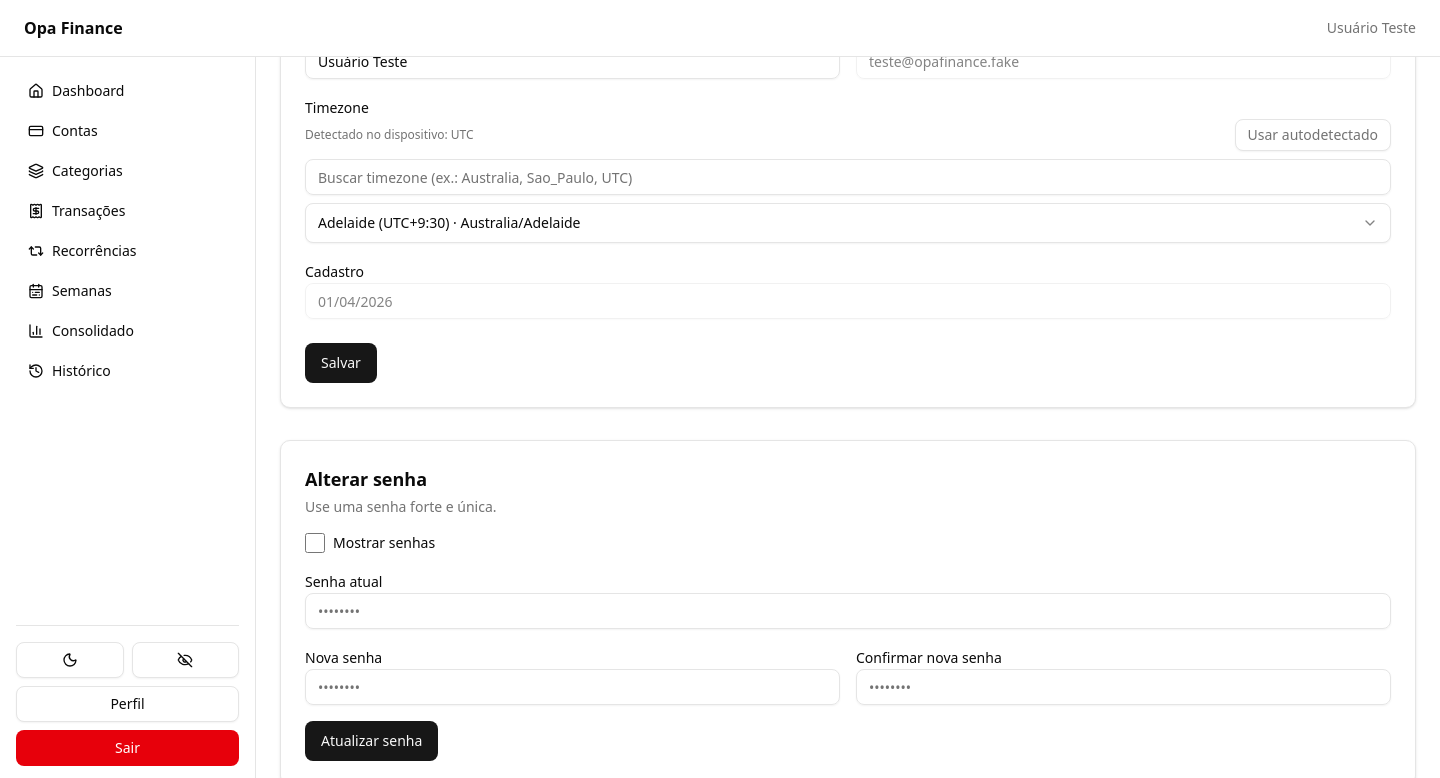
Test: profile feature › deve exibir erro amigável quando senha atual for inválida
The width and height of the screenshot is (1440, 778).
(page scrolled)
Type "SenhaErrada@123" into the password field labelled "Senha atual" at coordinates (848, 611), box [305,593,1391,629]
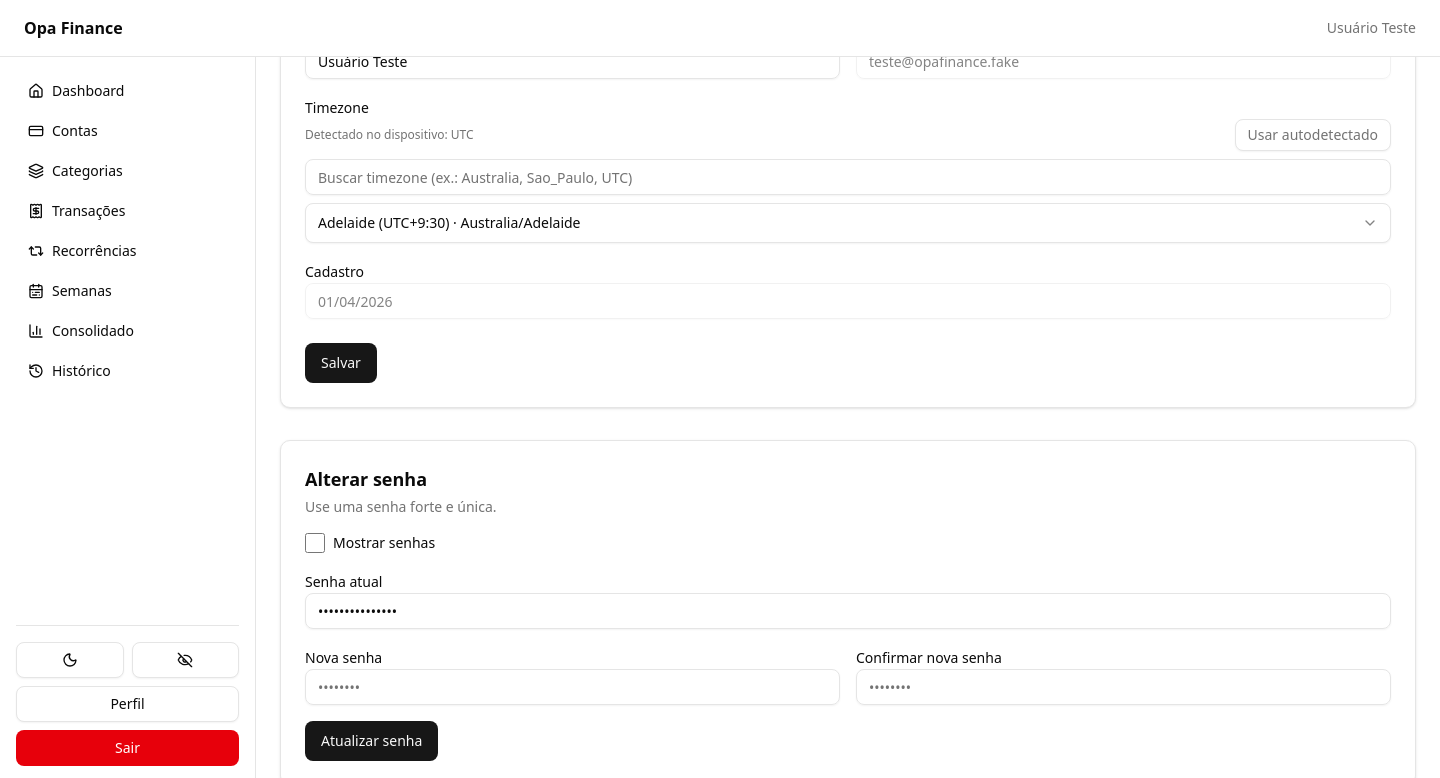
Type "NovaSenha@123" into the password field labelled "Nova senha" at coordinates (572, 687), box [305,669,840,705]
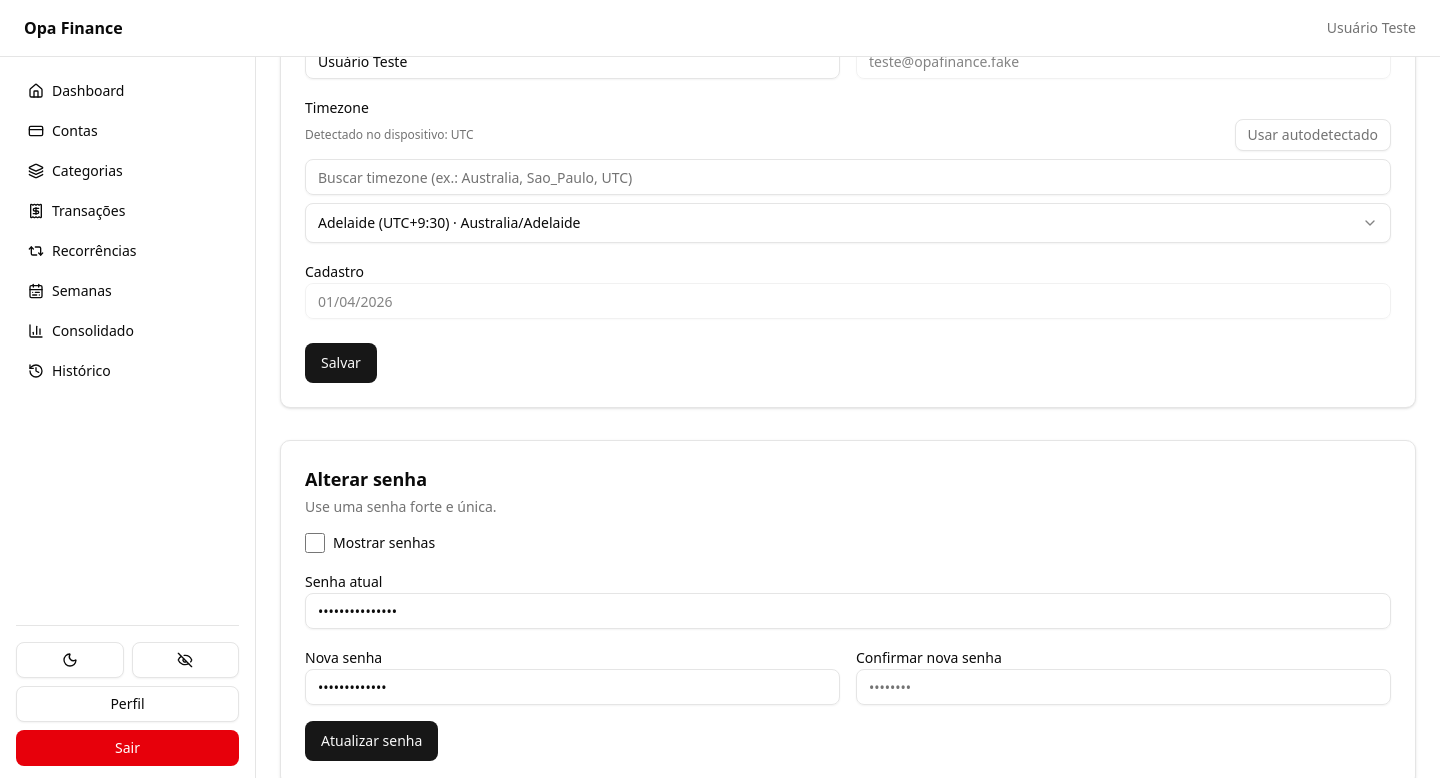
Type "NovaSenha@123" into the password field labelled "Confirmar nova senha" at coordinates (1124, 687), box [856,669,1391,705]
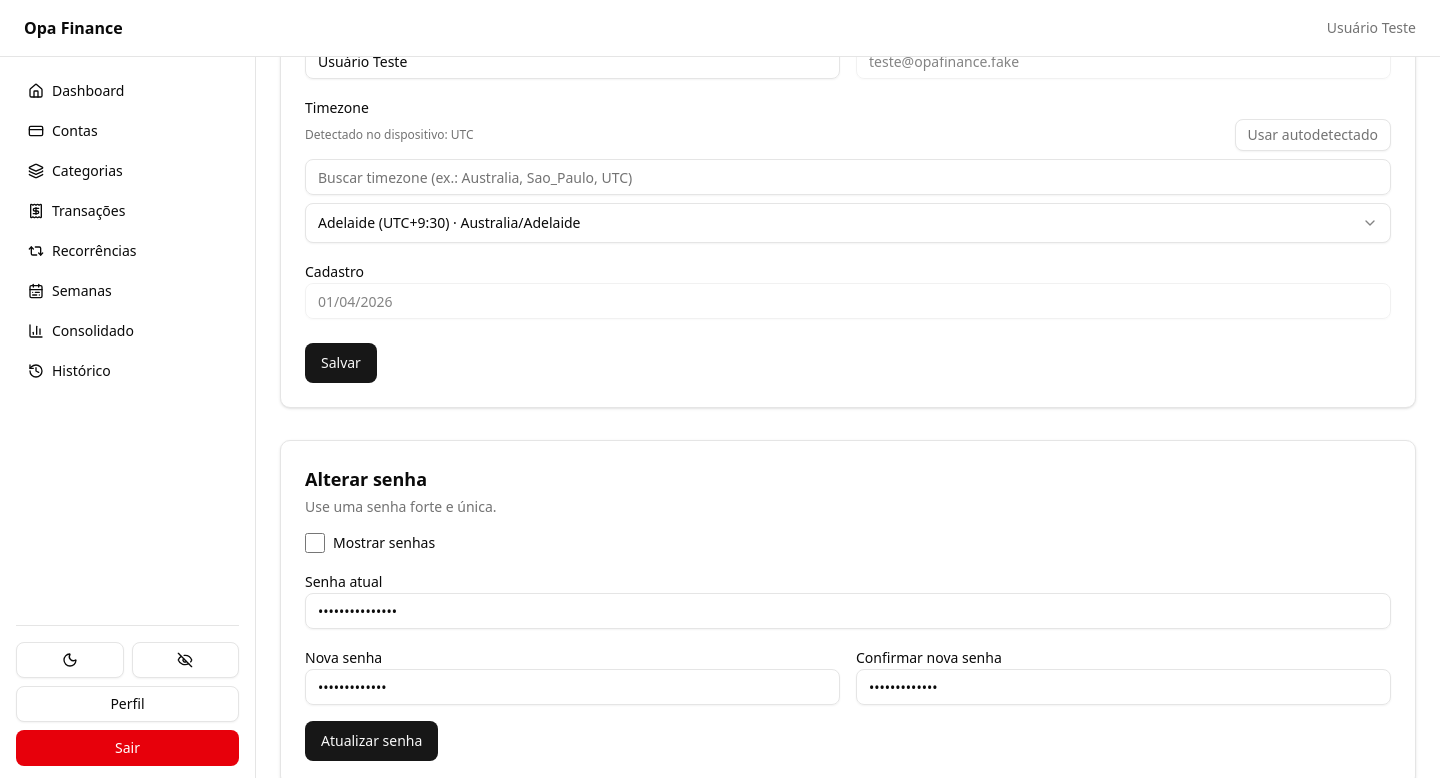
Click the button "Atualizar senha" at coordinates (372, 741), box [305,721,438,761]
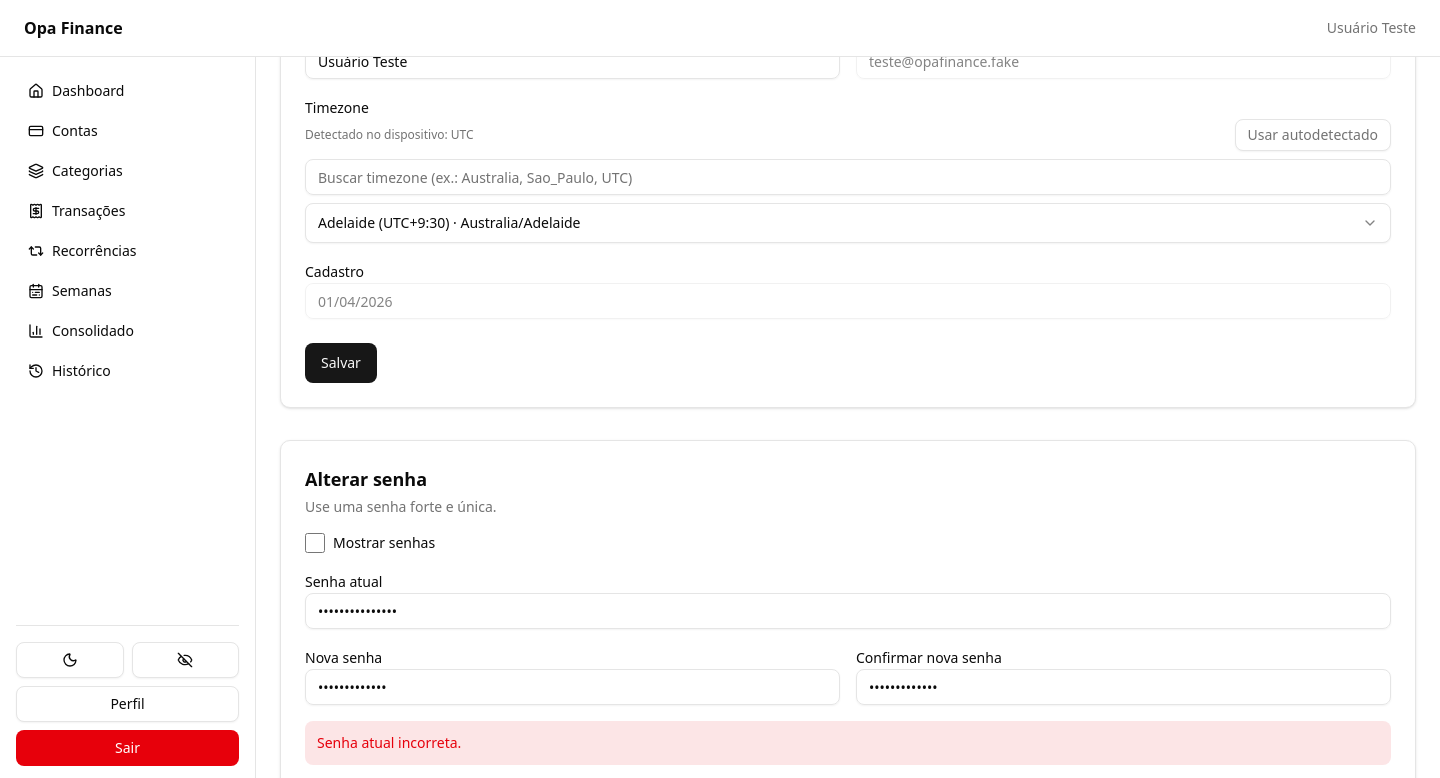
Expected: the text "Senha atual incorreta." is shown, [305,721,1391,765]
